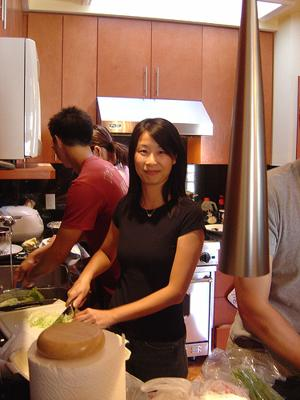person: (64, 117, 207, 382)
